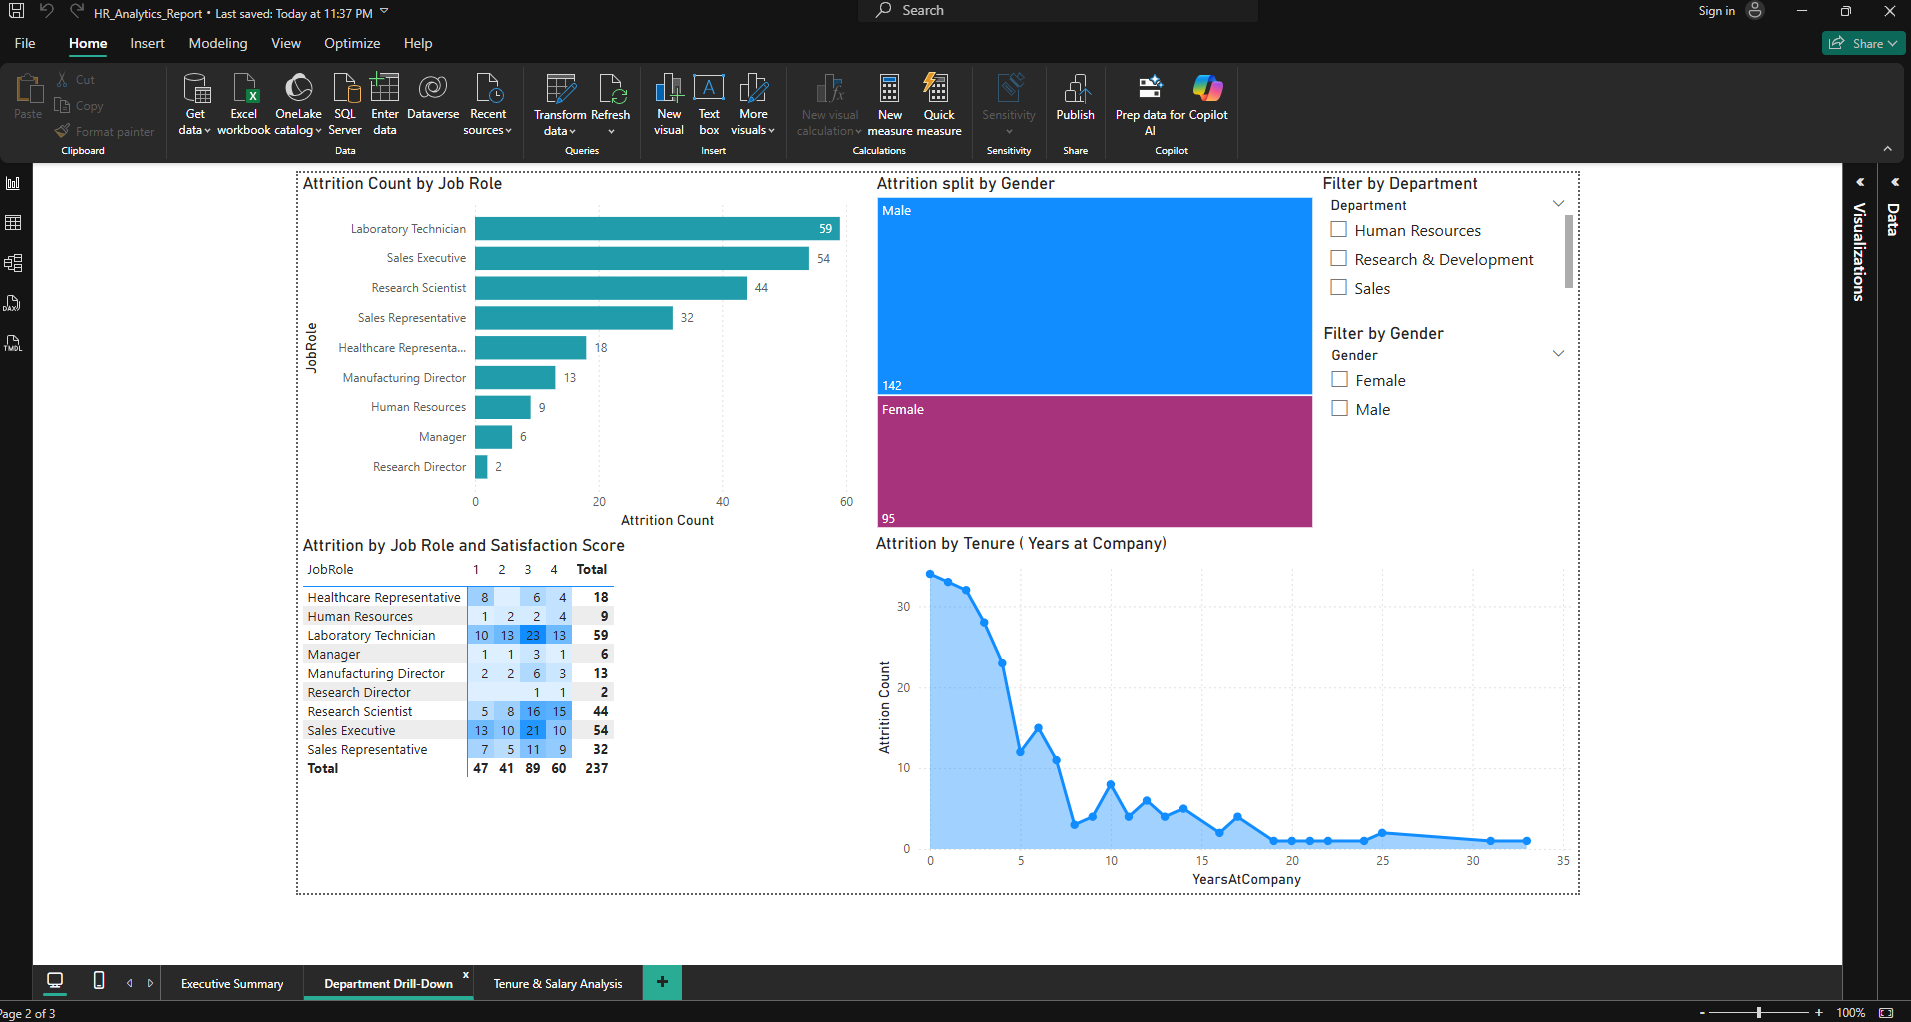

This screenshot's page, from the dashboard's own definition file:
{"tool":"powerbi","page":{"name":" Department Drill-Down","canvas":[1280,720],"ordinal":1},"visuals":[{"type":"clusteredBarChart","title":"Attrition Count by Job Role","fields":{"Category":["Dim_JobRole.JobRole"],"Y":["Fact_Employee.Attrition Count"]},"box":[0,0,573.8,360.5],"z":0},{"type":"pivotTable","title":"Attrition by Job Role and Satisfaction Score","fields":{"Values":["Fact_Employee.Attrition Count"],"Rows":["Dim_JobRole.JobRole"],"Columns":["Fact_Employee.JobSatisfaction"]},"box":[0,362.1,371.3,359.8],"z":1000},{"type":"treemap","title":"Attrition split by Gender","fields":{"Group":["Fact_Employee.Gender"],"Values":["Fact_Employee.Attrition Count"]},"box":[573.8,0,446.3,360.5],"z":2000},{"type":"areaChart","title":"Attrition by Tenure ( Years at Company)","fields":{"Category":["Fact_Employee.YearsAtCompany"],"Y":["Fact_Employee.Attrition Count"]},"box":[573.4,359.7,706.6,359.7],"z":3000},{"type":"slicer","title":"Filter by Department","fields":{"Values":["Dim_Department.Department"]},"box":[1020.1,0,259.9,132.4],"z":4000},{"type":"slicer","title":"Filter by Gender","fields":{"Values":["Fact_Employee.Gender"]},"box":[1020.7,149.7,259.3,105.9],"z":5000}]}

Visuals, with their boxes on the page's 1280x720 design canvas (x1, y1, x2, y2). These are canvas units, not pixel positions in the 1911x1022 screenshot, which may show the page scaled, cropped or inside an application window:
"Attrition Count by Job Role" clusteredBarChart: Rect(0, 0, 574, 360)
"Attrition by Job Role and Satisfaction Score" pivotTable: Rect(0, 362, 371, 722)
"Attrition split by Gender" treemap: Rect(574, 0, 1020, 360)
"Attrition by Tenure ( Years at Company)" areaChart: Rect(573, 360, 1280, 719)
"Filter by Department" slicer: Rect(1020, 0, 1280, 132)
"Filter by Gender" slicer: Rect(1021, 150, 1280, 256)
